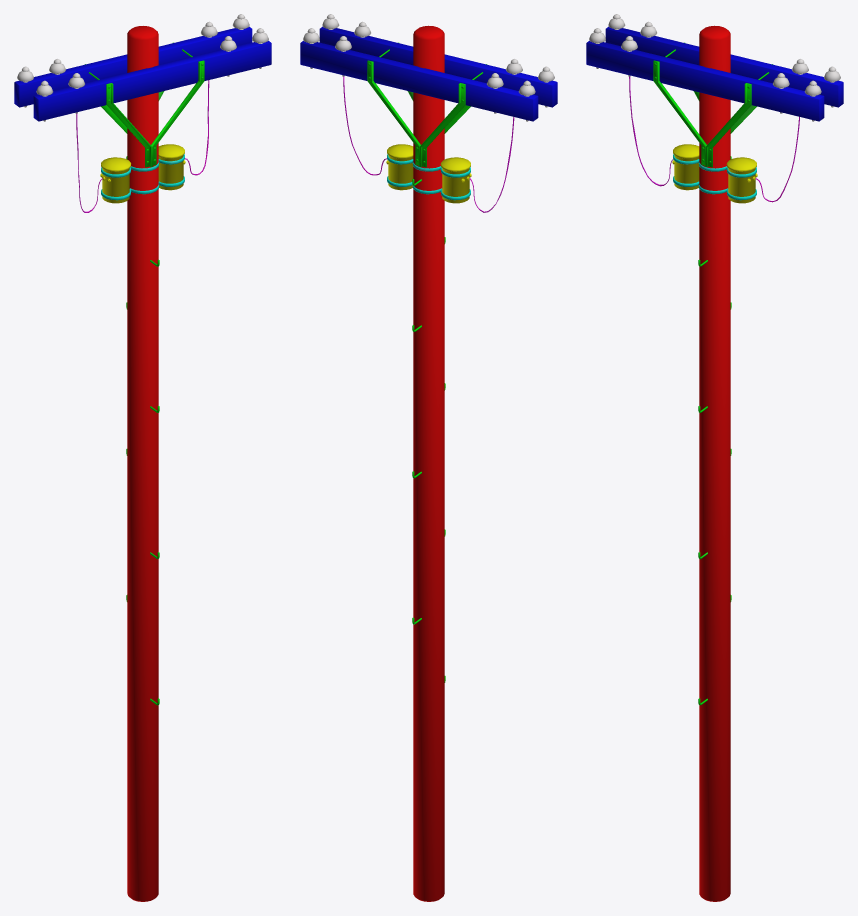
The model's file is SM_Electric_Pole_02.FBX.
The picture shows the model from 3 angles, left to right: view 1: azimuth 30°, elevation 25°; view 2: azimuth 150°, elevation 25°; view 3: azimuth 330°, elevation 25°; orthographic projection.
Parts seen in each view (by area): view 1: SM_Electric_Pole_02_LOD0; view 2: SM_Electric_Pole_02_LOD0; view 3: SM_Electric_Pole_02_LOD0.
Boxes of the visible parts, <box> form: SM_Electric_Pole_02_LOD0: <box>14,14,271,901</box>; SM_Electric_Pole_02_LOD0: <box>300,14,557,901</box>; SM_Electric_Pole_02_LOD0: <box>586,14,843,901</box>.
Size of what is drawn, in the model's own units: 226 by 53.99 by 800.
